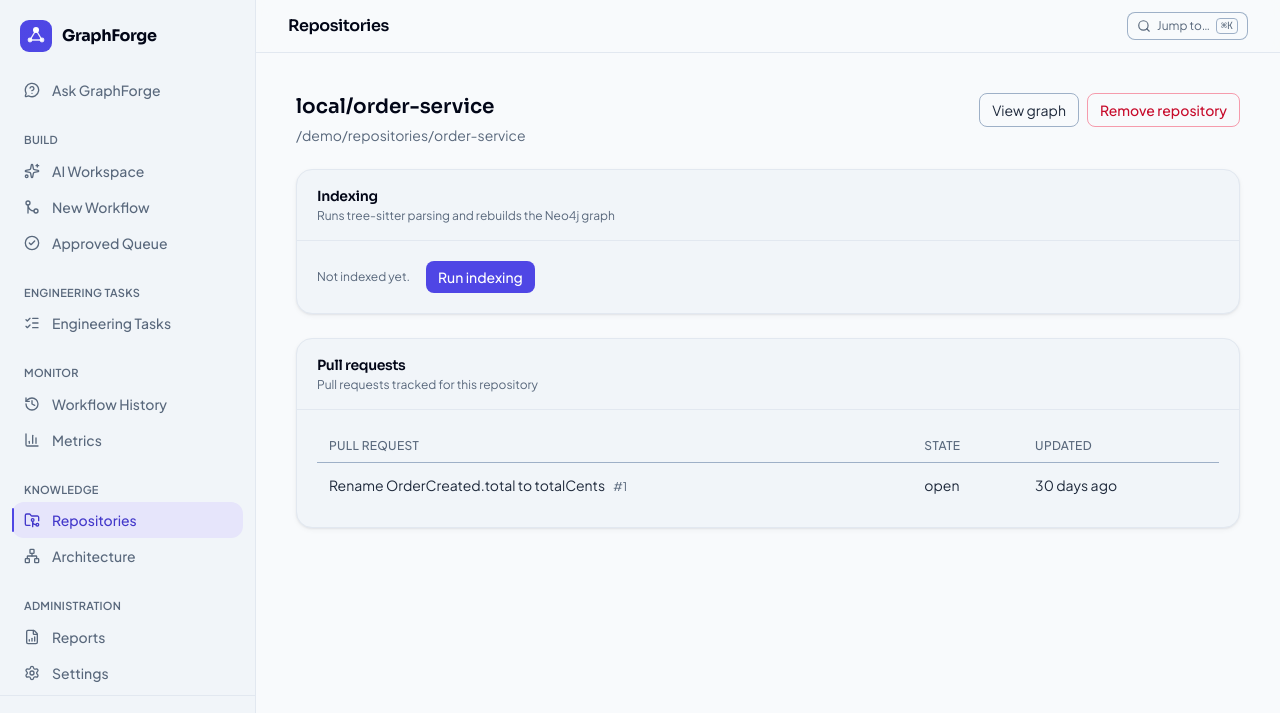
App navigation (authenticated) › does not remove the repository when the confirm dialog is declined
The width and height of the screenshot is (1280, 713).
expect the heading "local/order-service" is shown: met, box [296,93,526,121]
Click the button "Remove repository".
click(1164, 110)  # box [1087,93,1240,127]
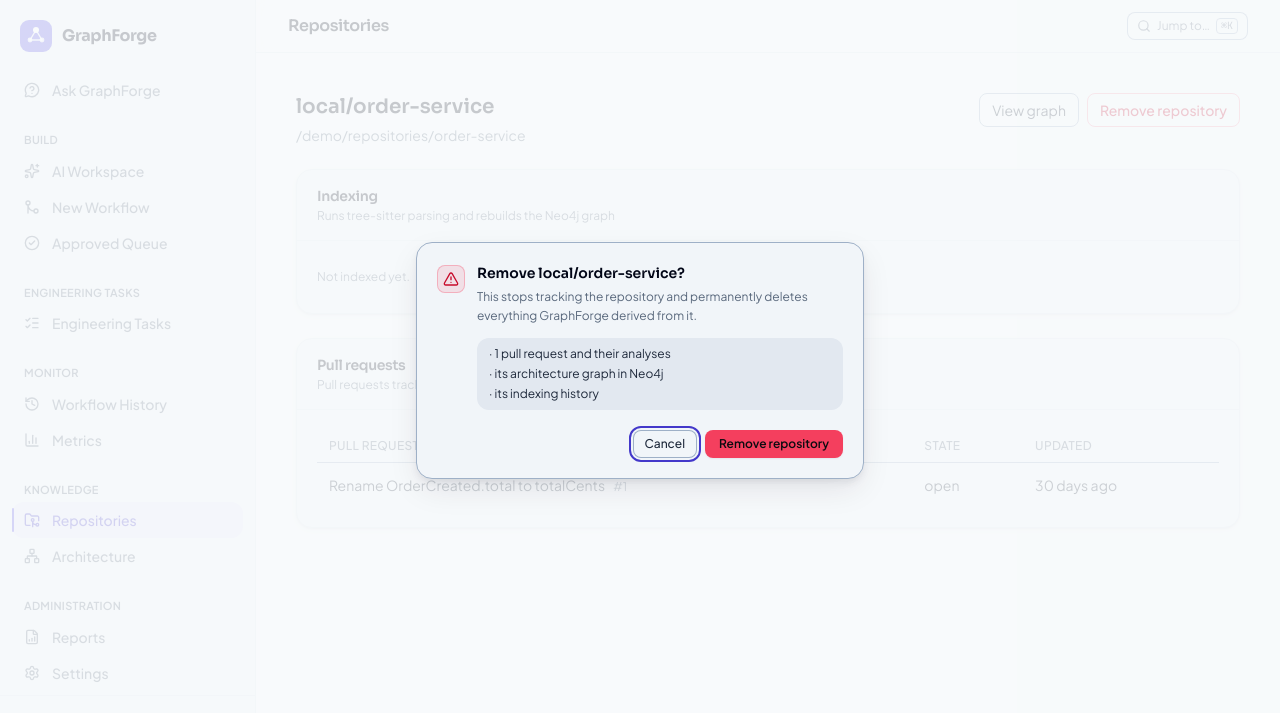
Click the button "Cancel".
click(665, 444)  # box [632,430,697,458]
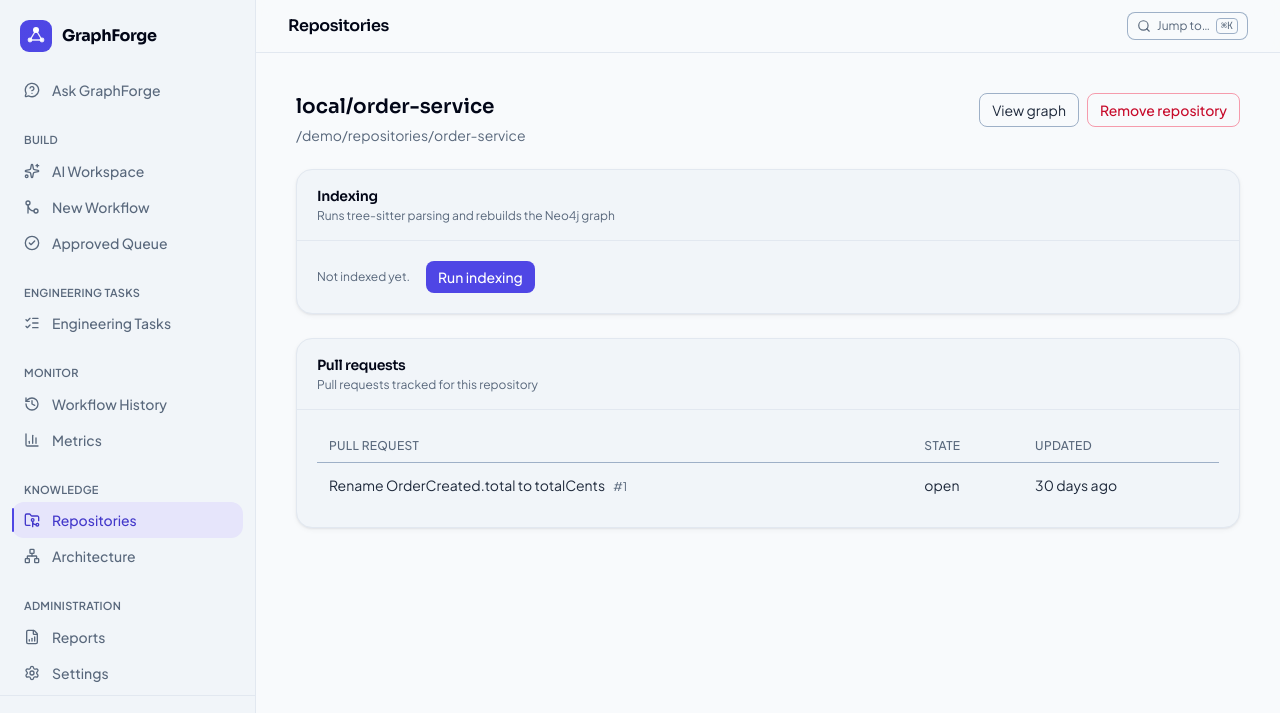
expect the heading "local/order-service" is shown: met, box [296,93,526,121]
expect the dialog is gone: met
